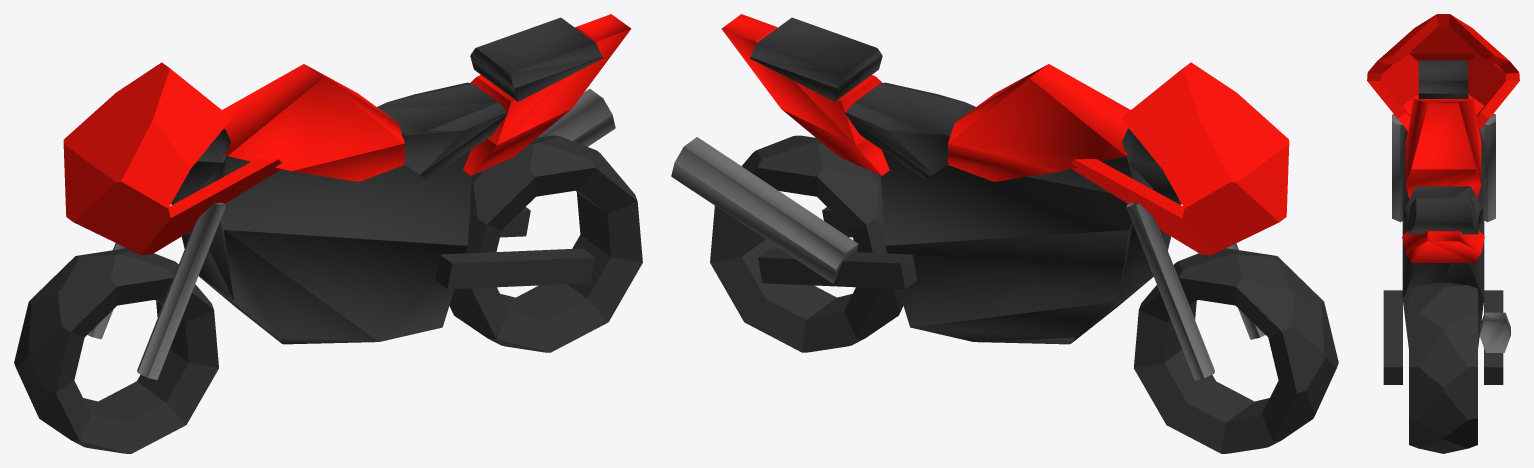
Rendered from moto.glb.
3 renders of one model, left to right at view 1: azimuth 30°, elevation 25°; view 2: azimuth 150°, elevation 25°; view 3: azimuth 270°, elevation 25°, orthographic. The views are drawn at different scales.
Visible parts, largest first — view 1: moto.001; view 2: moto.001; view 3: moto.001.
Part boxes in pixels (x1,y1,x2,y2): moto.001: (14,14,642,453); moto.001: (671,14,1338,453); moto.001: (1367,14,1519,453).
Size of the model in its own units: 5.39 by 3.05 by 1.48.
